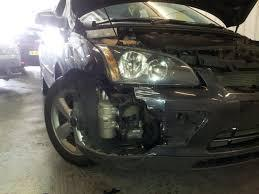Headlight-Damage: (84, 25, 193, 89)
front-bumper-dent: (75, 97, 202, 171)
